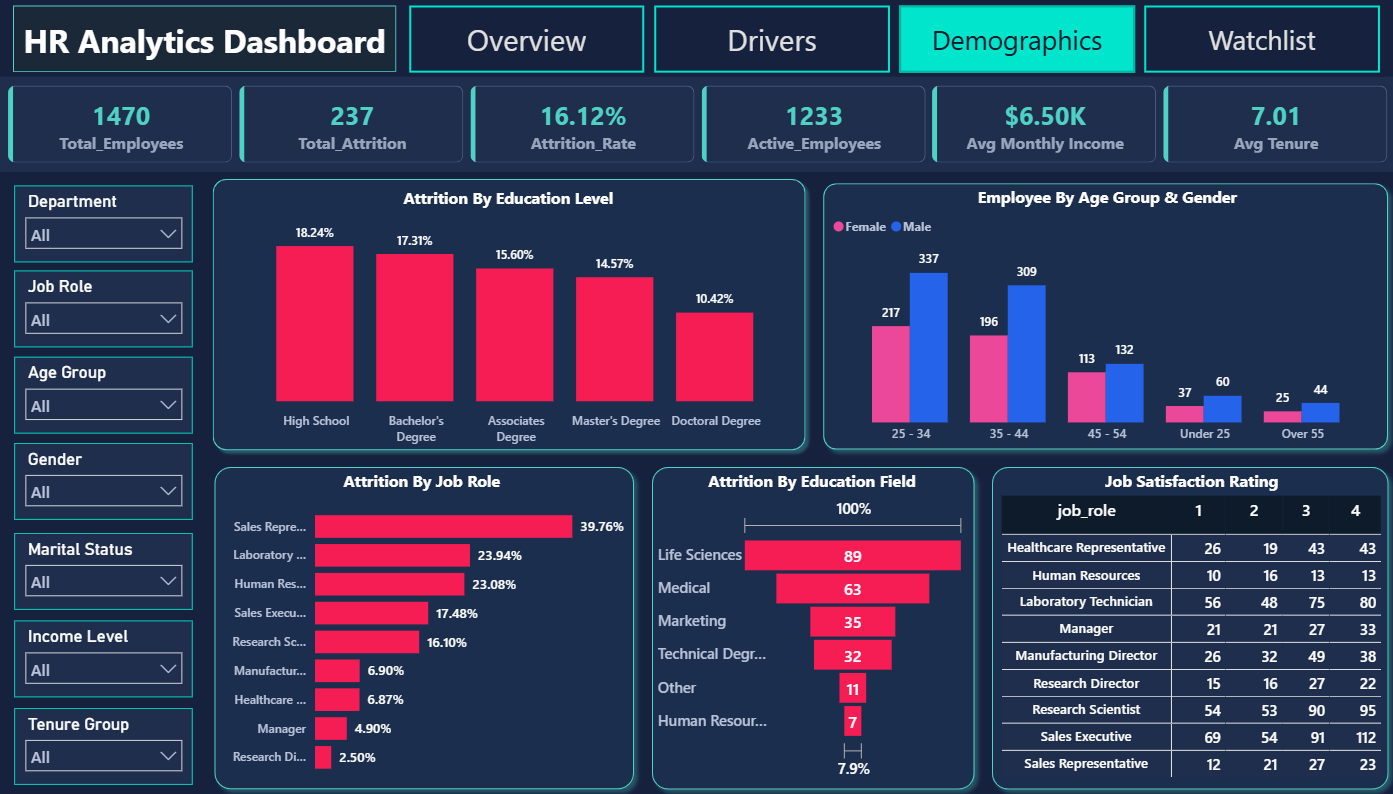

The page's visual inventory and layout, read from the dashboard file:
{"tool":"powerbi","page":{"name":"Demographics","canvas":[1400,800],"ordinal":2},"visuals":[{"type":"shape","box":[985.5,459.4,414.5,340.6],"z":0},{"type":"shape","box":[207.1,174.3,607.1,285.7],"z":1000},{"type":"shape","box":[815.7,175.7,582.9,284.3],"z":2000},{"type":"shape","box":[206.9,459.7,437.5,340.3],"z":3000},{"type":"columnChart","title":"Attrition By Education Level","fields":{"Category":["public hr_attrition.education"],"Y":["public hr_attrition.Attrition_Rate"]},"box":[217.1,188.6,585.7,265.7],"z":4000},{"type":"shape","box":[15.3,6.9,383.3,66.7],"z":5000},{"type":"textbox","box":[15.3,16.7,383.3,56.9],"z":6000},{"type":"clusteredColumnChart","title":"Employee By Age Group & Gender","fields":{"Category":["public hr_attrition.age_group"],"Series":["public hr_attrition.gender"],"Y":["public hr_attrition.Total_Employees"]},"box":[830,187.1,558.6,267.1],"z":7000},{"type":"barChart","title":"Attrition By Job Role","fields":{"Y":["public hr_attrition.Attrition_Rate"],"Category":["public hr_attrition.job_role"]},"box":[216.7,470.8,415.3,316.7],"z":8000},{"type":"pivotTable","title":"Job Satisfaction Rating","fields":{"Rows":["public hr_attrition.job_role"],"Columns":["public hr_attrition.Job Satisfaction level"],"Values":["public hr_attrition.Total_Employees"]},"box":[998.6,470.8,390.3,316.7],"z":9000},{"type":"shape","box":[644.9,459.4,340.6,340.6],"z":10000},{"type":"funnel","title":"Attrition By Education Field","fields":{"Category":["public hr_attrition.education_field"],"Y":["public hr_attrition.Total_Attrition"]},"box":[655.6,470.8,318.1,316.7],"z":11000},{"type":"cardVisual","fields":{"Data":["public hr_attrition.Total_Employees","public hr_attrition.Total_Attrition","public hr_attrition.Attrition_Rate","public hr_attrition.Active_Employees","public hr_attrition.Avg Monthly Income","public hr_attrition.Avg Tenure","public hr_attrition.Active_Employees"]},"box":[1.4,79.2,1398.6,95.8],"z":12000},{"type":"slicer","fields":{"Values":["public hr_attrition.department"]},"box":[15.7,187.1,178.6,77.1],"z":13000},{"type":"slicer","fields":{"Values":["public hr_attrition.job_role"]},"box":[15.7,273,178.6,77.1],"z":14000},{"type":"slicer","fields":{"Values":["public hr_attrition.age_group"]},"box":[15.7,359,178.6,77.1],"z":15000},{"type":"slicer","fields":{"Values":["public hr_attrition.gender"]},"box":[15.7,445,178.6,77.1],"z":16000},{"type":"slicer","fields":{"Values":["public hr_attrition.marital_status"]},"box":[15.7,535,178.6,77.1],"z":17000},{"type":"slicer","fields":{"Values":["public hr_attrition.income_level"]},"box":[15.7,623,178.6,77.1],"z":18000},{"type":"slicer","fields":{"Values":["public hr_attrition.tenure_group"]},"box":[15.7,710,178.6,77.1],"z":19000},{"type":"actionButton","box":[411,7.1,235,67.1],"z":20000},{"type":"actionButton","box":[656,7.1,235.7,67.1],"z":21000},{"type":"actionButton","box":[901,7.1,235.7,67.1],"z":22000},{"type":"actionButton","box":[1146,7.1,235.7,67.1],"z":23000}]}

Visuals, with their boxes in screenshot pixels (x1, y1, x2, y2), scaled from the page's 1400x800 canvas onto the 1393x794 screenshot:
shape: (left=981, top=456, right=1392, bottom=793)
shape: (left=206, top=173, right=810, bottom=457)
shape: (left=812, top=174, right=1392, bottom=457)
shape: (left=206, top=456, right=641, bottom=793)
"Attrition By Education Level" columnChart: (left=216, top=187, right=799, bottom=451)
shape: (left=15, top=7, right=397, bottom=73)
textbox: (left=15, top=17, right=397, bottom=73)
"Employee By Age Group & Gender" clusteredColumnChart: (left=826, top=186, right=1382, bottom=451)
"Attrition By Job Role" barChart: (left=216, top=467, right=629, bottom=782)
"Job Satisfaction Rating" pivotTable: (left=994, top=467, right=1382, bottom=782)
shape: (left=642, top=456, right=981, bottom=793)
"Attrition By Education Field" funnel: (left=652, top=467, right=969, bottom=782)
cardVisual - public hr_attrition.Total_Employees x public hr_attrition.Total_Attrition: (left=1, top=79, right=1392, bottom=174)
slicer - public hr_attrition.department: (left=16, top=186, right=193, bottom=262)
slicer - public hr_attrition.job_role: (left=16, top=271, right=193, bottom=347)
slicer - public hr_attrition.age_group: (left=16, top=356, right=193, bottom=433)
slicer - public hr_attrition.gender: (left=16, top=442, right=193, bottom=518)
slicer - public hr_attrition.marital_status: (left=16, top=531, right=193, bottom=608)
slicer - public hr_attrition.income_level: (left=16, top=618, right=193, bottom=695)
slicer - public hr_attrition.tenure_group: (left=16, top=705, right=193, bottom=781)
actionButton: (left=409, top=7, right=643, bottom=74)
actionButton: (left=653, top=7, right=887, bottom=74)
actionButton: (left=896, top=7, right=1131, bottom=74)
actionButton: (left=1140, top=7, right=1375, bottom=74)
